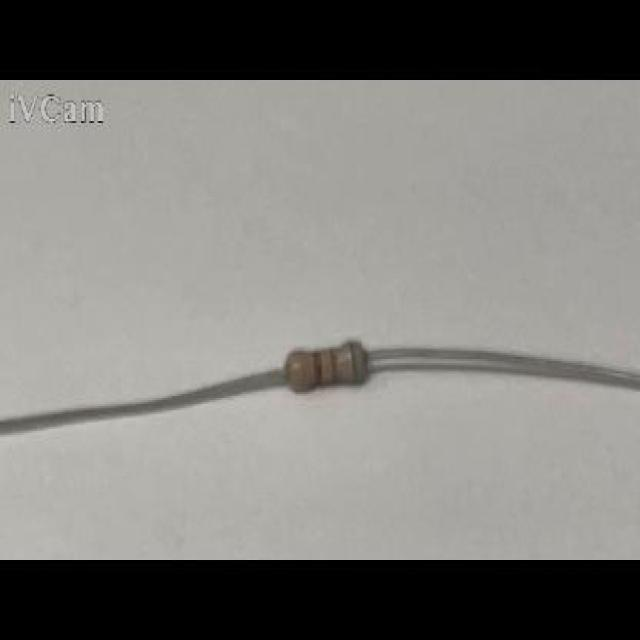capacitor: (282, 329, 381, 409)
